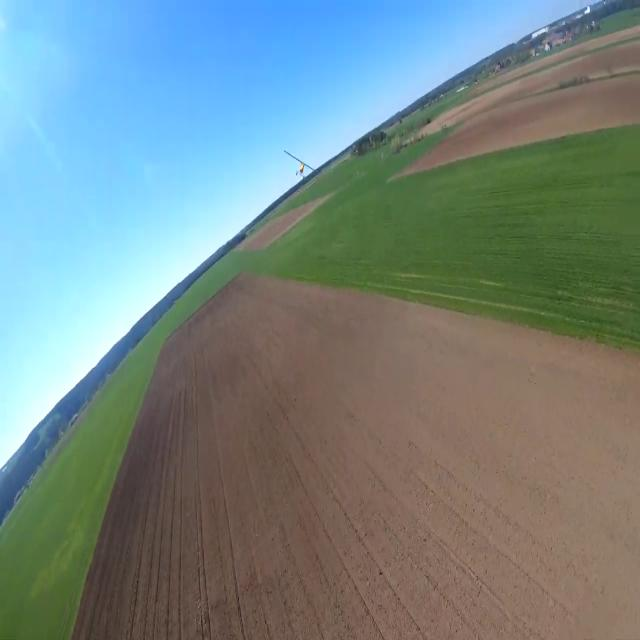iha: (282, 150, 322, 182)
